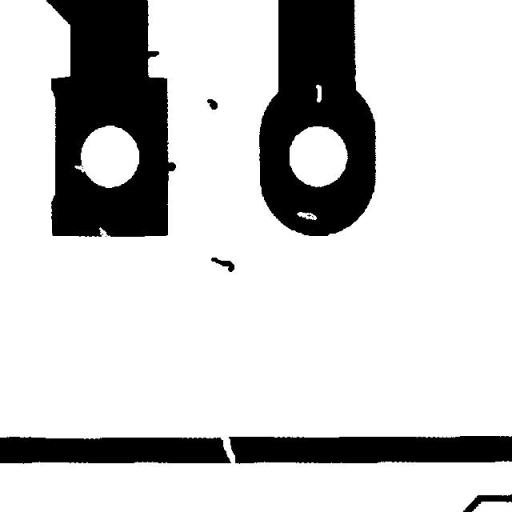copper: (203, 250, 242, 279), (199, 91, 225, 117)
mousebite: (91, 219, 118, 245), (66, 158, 92, 180)
open: (213, 426, 242, 472)
pin-hole: (289, 204, 324, 227), (308, 76, 329, 110)
spur: (155, 154, 183, 178), (137, 44, 166, 66)
